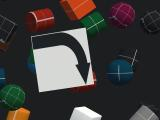Right: (31, 28, 94, 92)
